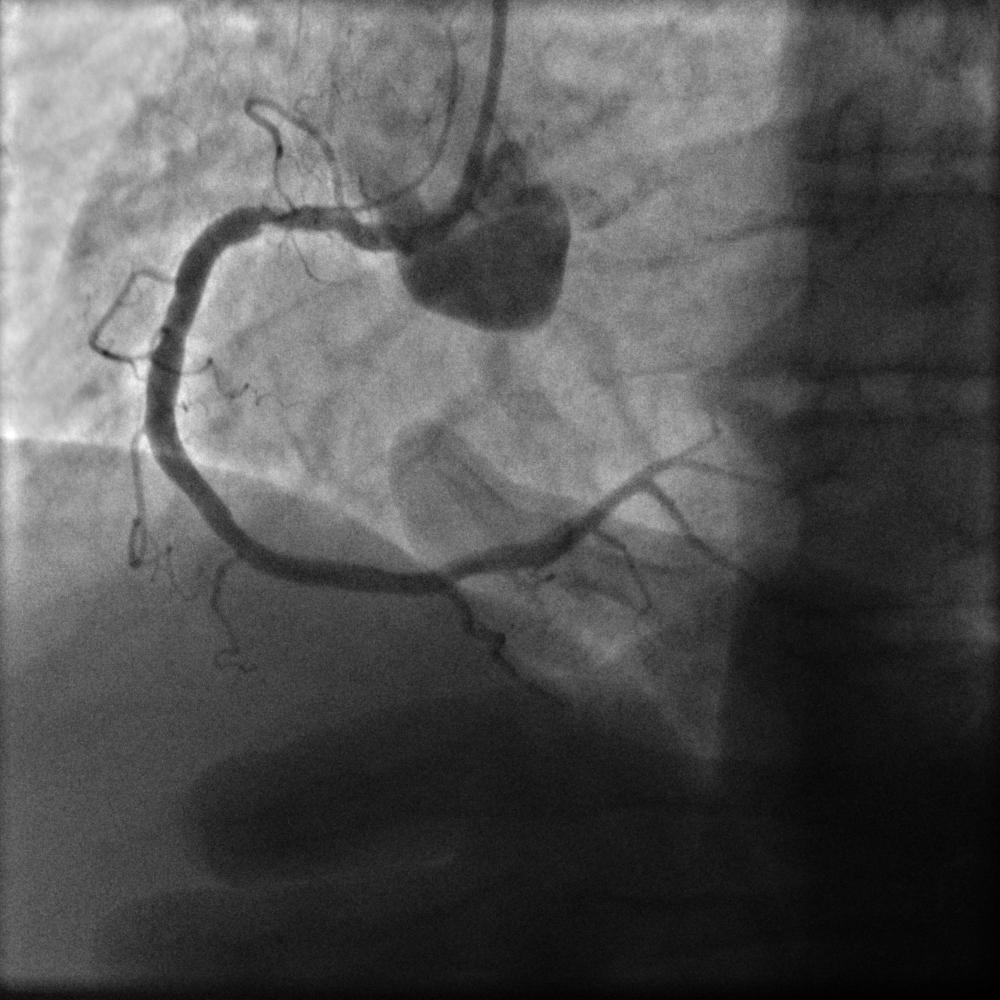Stenosis: (264, 192, 378, 248)
